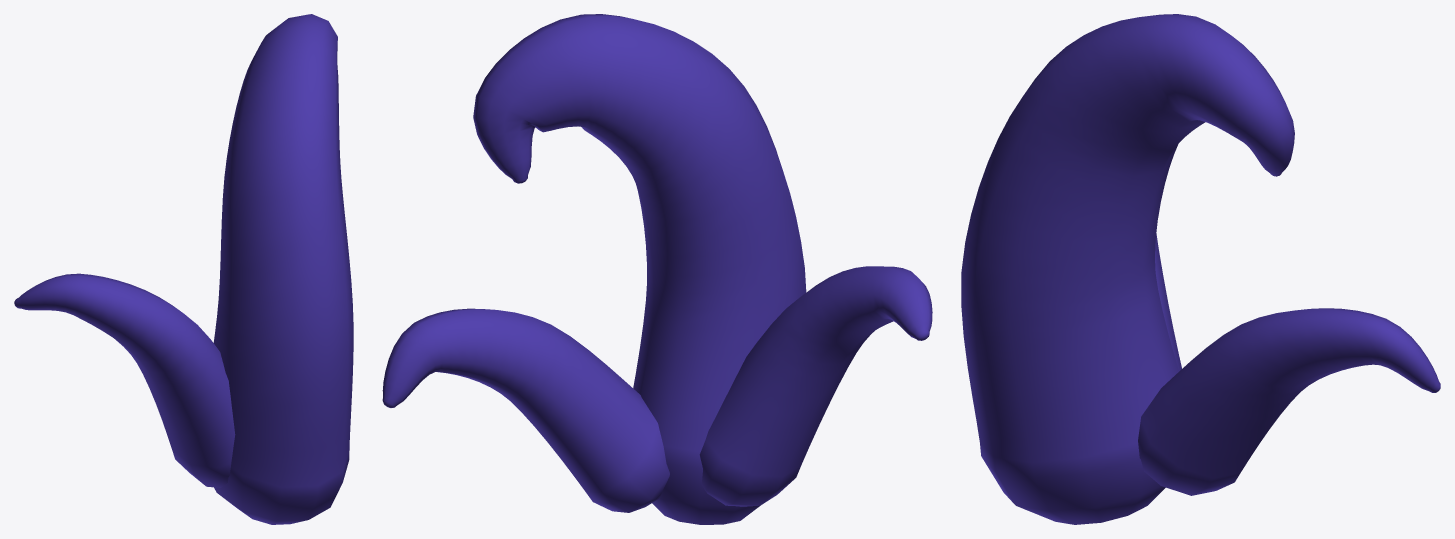
File: hair-tuft.glb
3 views of the same model, side by side, from view 1: azimuth 30°, elevation 25°; view 2: azimuth 150°, elevation 25°; view 3: azimuth 270°, elevation 25° (orthographic). The views are drawn at different scales.
Parts seen in each view (by area): view 1: hair-tuft-mesh; view 2: hair-tuft-mesh; view 3: hair-tuft-mesh.
Boxes of the visible parts, x1,y1,x2,y2 form: hair-tuft-mesh: [14, 14, 353, 524]; hair-tuft-mesh: [382, 14, 932, 524]; hair-tuft-mesh: [961, 14, 1440, 524].
Bounding box in the file's own units: 0.7119 × 0.8184 × 0.6644.
